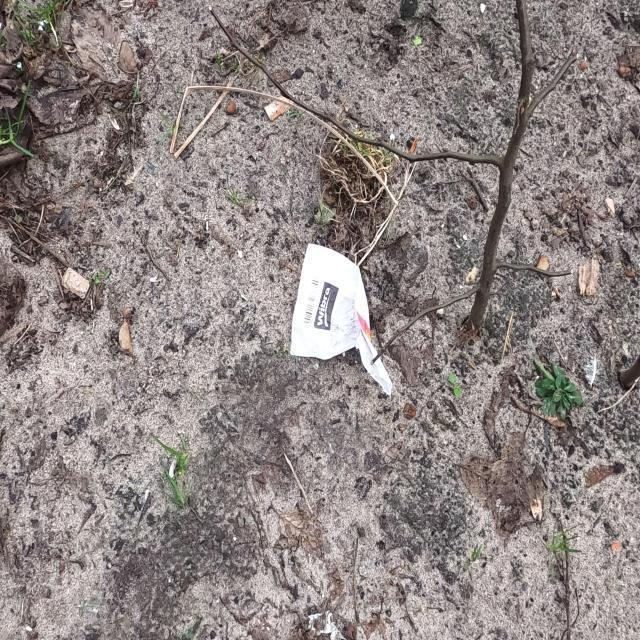Paper: (288, 240, 408, 399)
